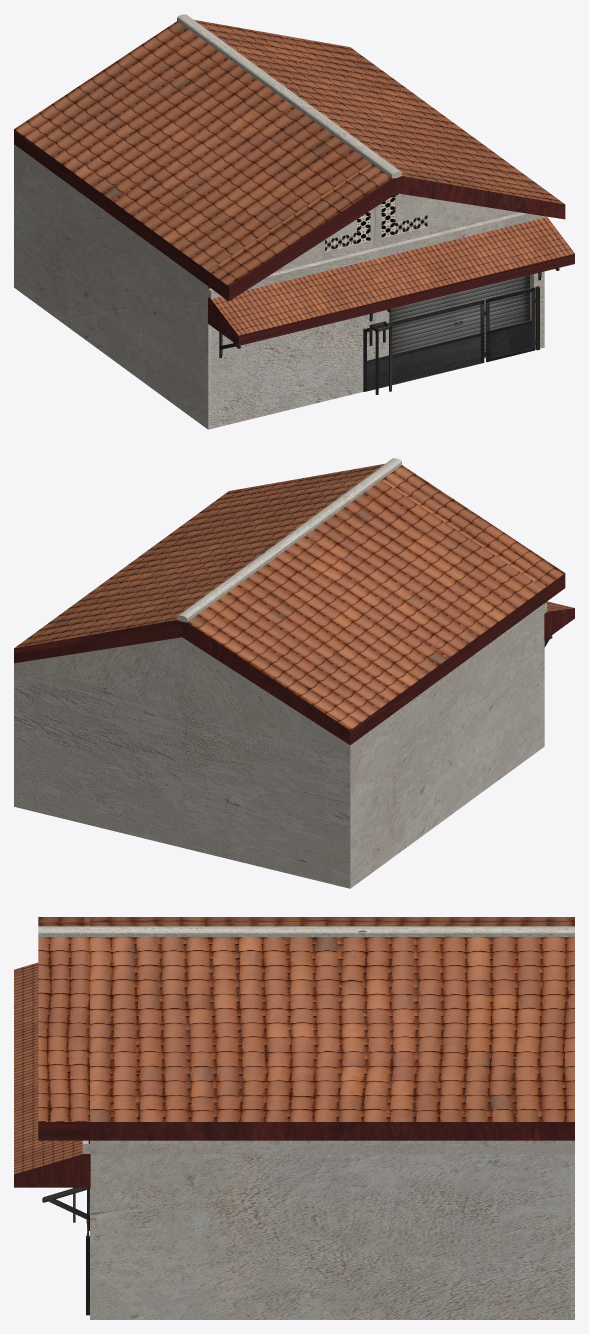
The picture shows the model from 3 angles, top to bottom: view 1: azimuth 30°, elevation 25°; view 2: azimuth 150°, elevation 25°; view 3: azimuth 270°, elevation 25°; orthographic projection. The views are drawn at different scales.
Parts seen in each view (by area): view 1: Cube; view 2: Cube; view 3: Cube.
Boxes of the visible parts, x1=… form: Cube: x1=14, y1=14, x2=574, y2=429; Cube: x1=14, y1=458, x2=574, y2=888; Cube: x1=14, y1=917, x2=574, y2=1319.
Bounding box in the file's own units: 10 × 6.59 × 11.57.
7 materials, 7 textured.
